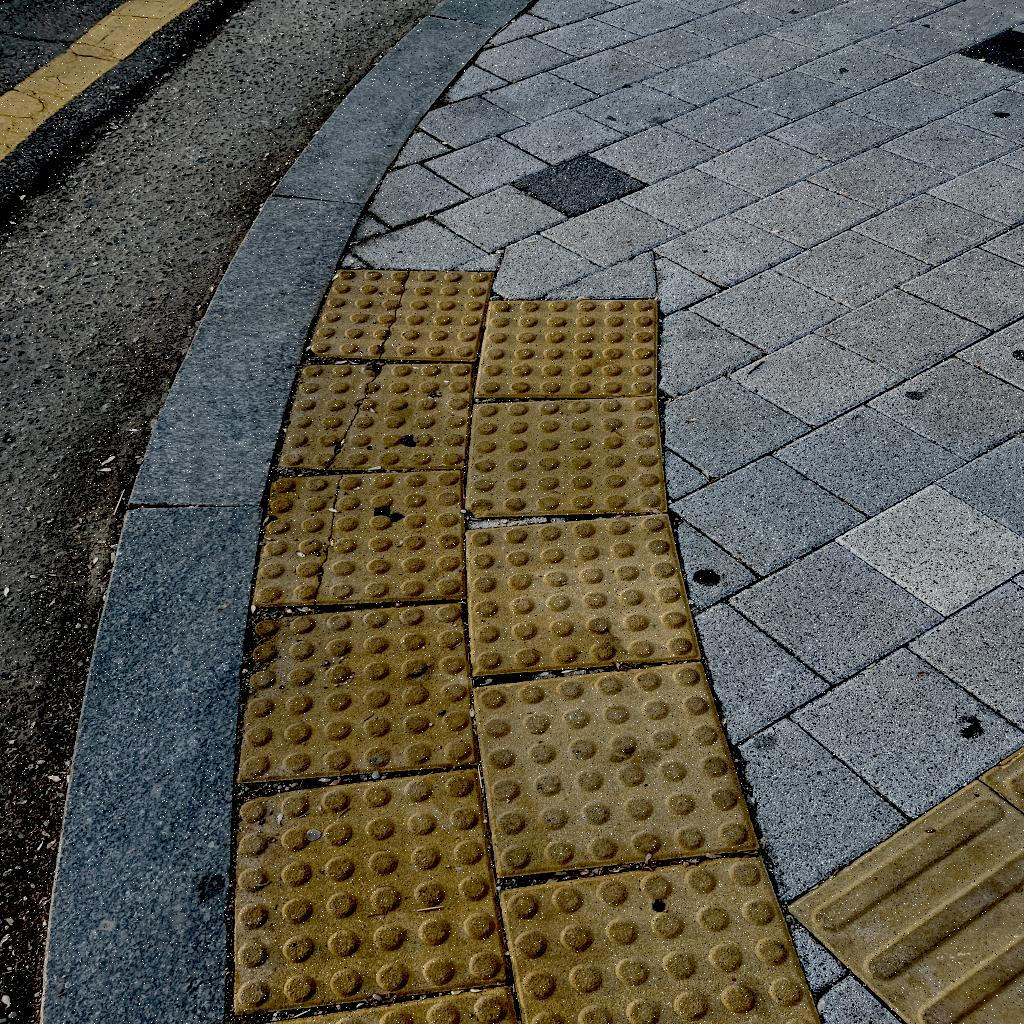Stop block normal: (209, 767, 508, 1014), (474, 655, 757, 877), (227, 603, 476, 780), (465, 513, 697, 671), (468, 397, 664, 513), (474, 299, 658, 398)
